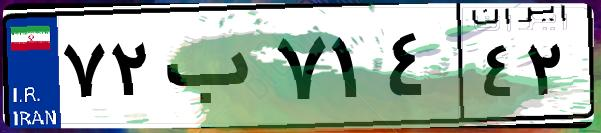1: (330, 28, 385, 110)
2: (525, 38, 570, 115), (110, 28, 158, 98)
4: (385, 28, 445, 110), (475, 38, 525, 113)
7: (270, 28, 330, 110), (57, 26, 110, 100)
ب: (158, 20, 270, 120)
